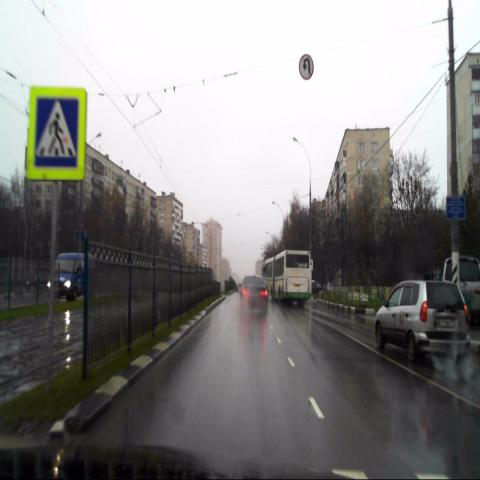3_19: (299, 55, 313, 79)
